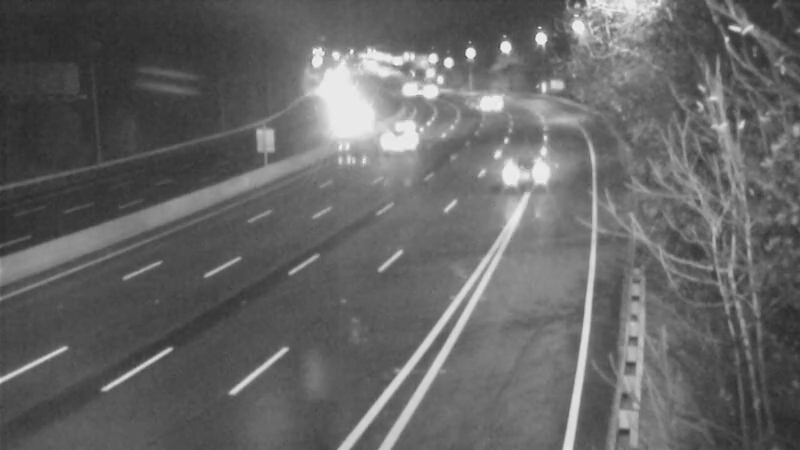vehicle: (482, 124, 562, 204), (384, 65, 434, 115), (406, 64, 456, 114), (455, 76, 505, 126), (379, 107, 429, 157)
